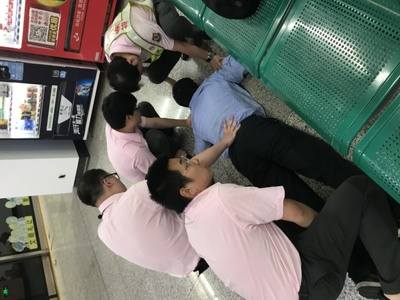fall: (172, 59, 388, 202)
